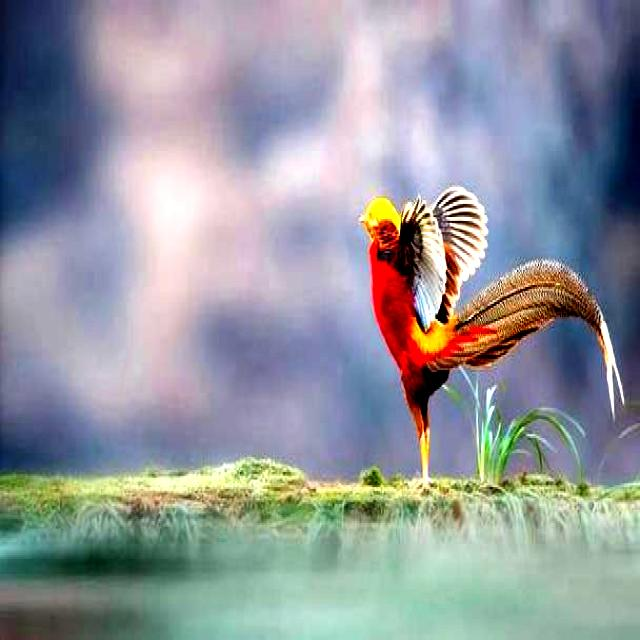Chrysolophus pictus feather: (444, 261, 624, 426)
